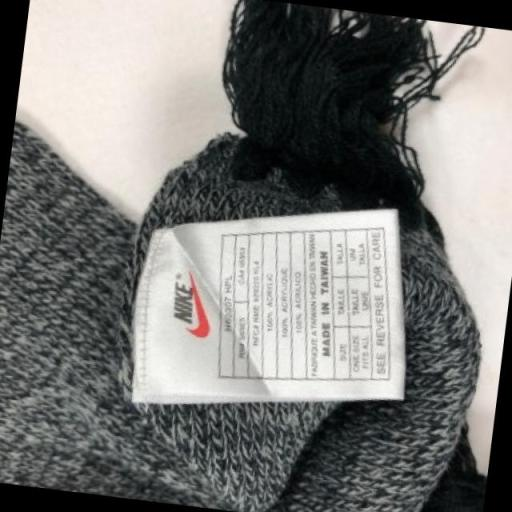Nike: (182, 279, 216, 340), (168, 279, 199, 326)
